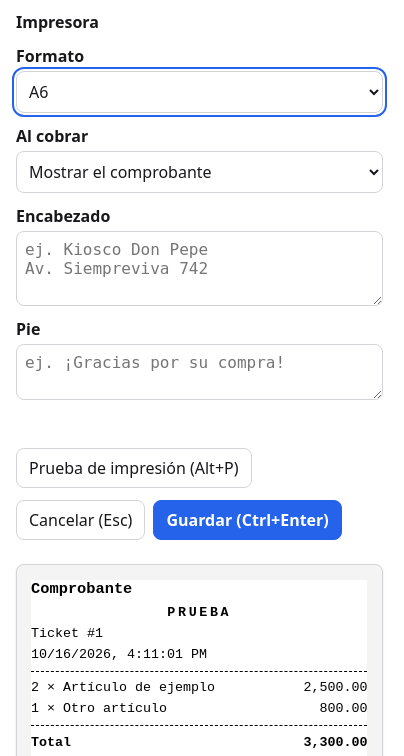
it: PrinterScreen › la vista previa usa el encabezado tipeado
Type "Mi kiosco" into the text box labelled "Encabezado" at (199, 268), box [16,231,383,306]
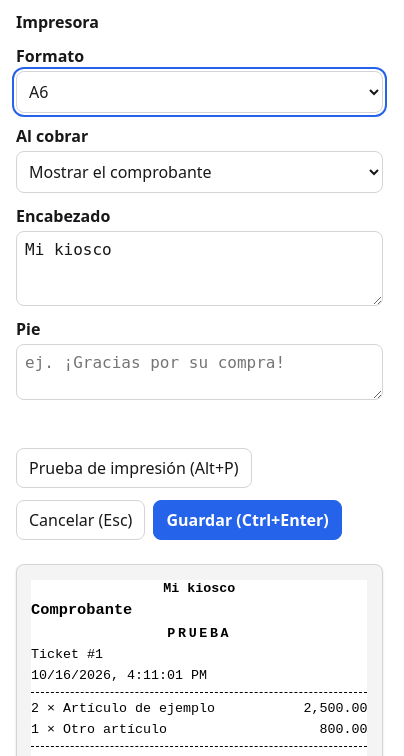
Result: the text "Mi kiosco" is shown at [163,581,235,596]
